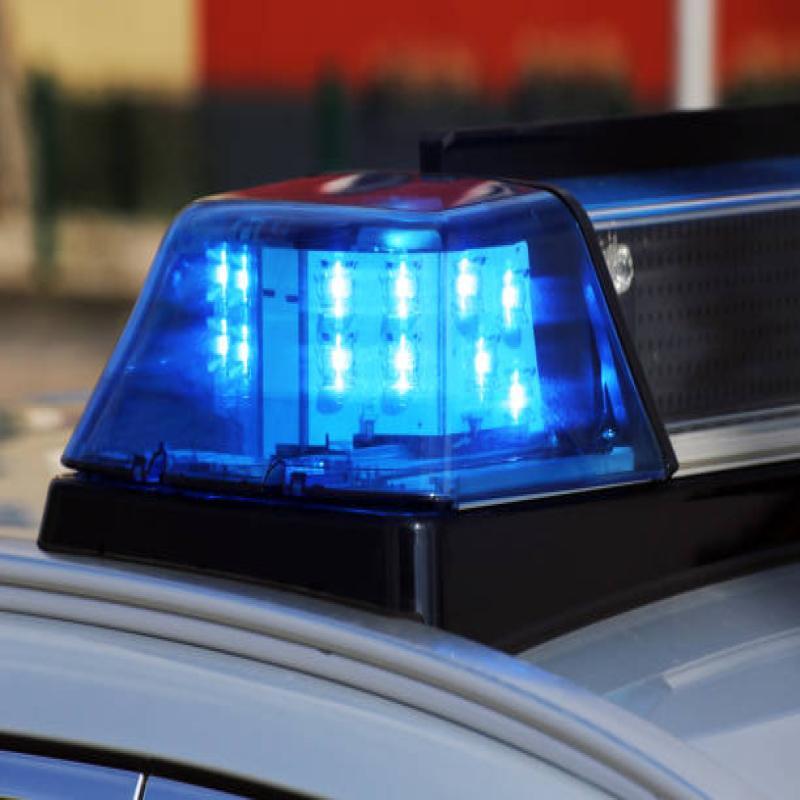AmbulanceSiren: (37, 157, 800, 590)
